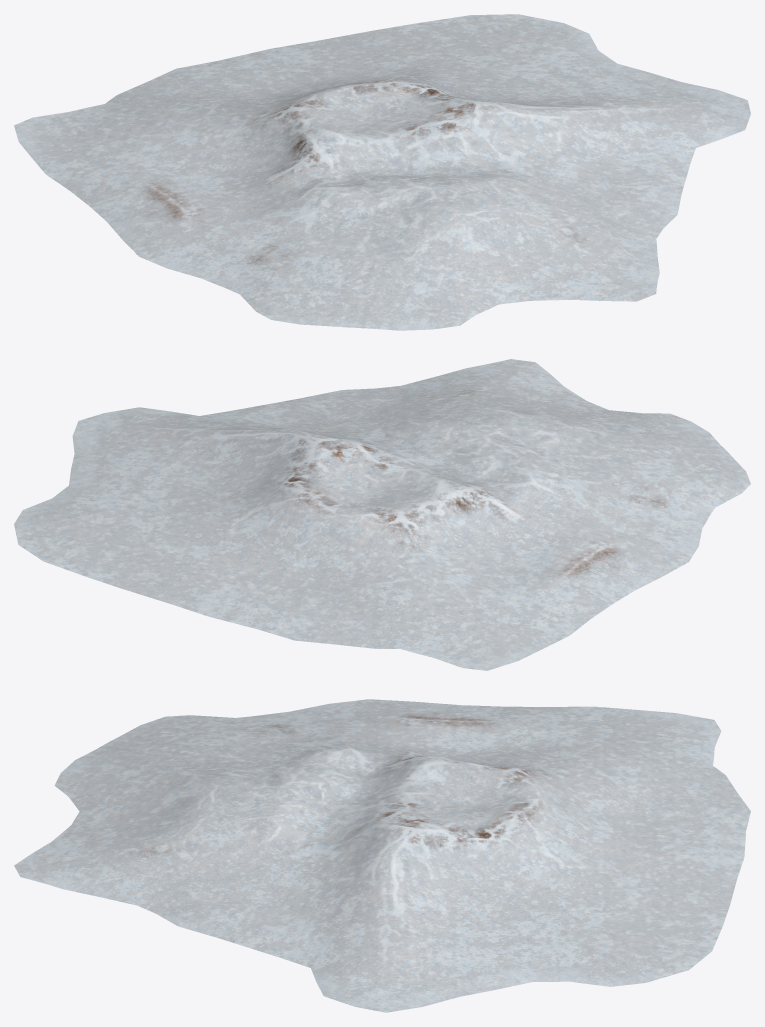
File: EP1_terrain02c.fbx
3 views of the same model, one above another, from view 1: azimuth 30°, elevation 25°; view 2: azimuth 150°, elevation 25°; view 3: azimuth 270°, elevation 25° (orthographic). The views are drawn at different scales.
Visible parts, largest first — view 1: Terrain02c; view 2: Terrain02c; view 3: Terrain02c.
Boxes of the visible parts, x1,y1,x2,y2 form: Terrain02c: (14, 14, 750, 330); Terrain02c: (14, 359, 750, 670); Terrain02c: (14, 699, 750, 1012).
Bounding box in the file's own units: 22.77 × 1.82 × 22.61.
